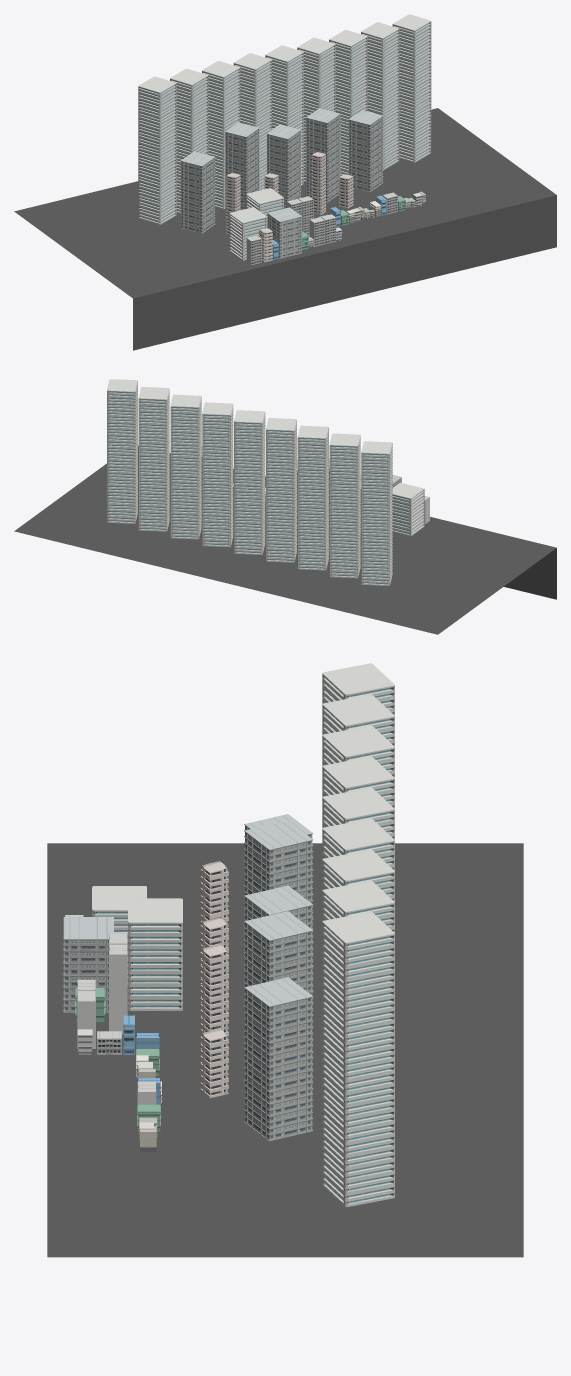
The model's file is testStage.fbx.
The picture shows the model from 3 angles, top to bottom: view 1: azimuth 30°, elevation 25°; view 2: azimuth 150°, elevation 25°; view 3: azimuth 270°, elevation 25°; orthographic projection. The views are drawn at different scales.
Visible parts, largest first — view 1: Plane, Building.032, Building.023, Building.027, Building.026, Building.024, Building.025, Building.014, Building.012, Building.034, Building.030, Building.016 (+6 smaller); view 2: Building.032, Plane, Building.012; view 3: Plane, Building.032, Building.027, Building.016, Building.026, Building.024, Building.014, Building.030, Building.025, Building.022, Building.031, Building.034 (+6 smaller).
Boxes of the visible parts, bbox=[...] form: Plane: bbox=[14, 108, 556, 350]; Building.032: bbox=[138, 14, 431, 224]; Building.023: bbox=[180, 151, 215, 233]; Building.027: bbox=[348, 110, 383, 192]; Building.026: bbox=[306, 108, 340, 202]; Building.024: bbox=[225, 122, 259, 217]; Building.025: bbox=[266, 124, 301, 208]; Building.014: bbox=[267, 207, 302, 258]; Building.012: bbox=[229, 207, 267, 260]; Building.034: bbox=[369, 191, 425, 216]; Building.030: bbox=[311, 152, 325, 215]; Building.016: bbox=[246, 188, 283, 227]; Building.032: bbox=[107, 379, 392, 585]; Plane: bbox=[14, 445, 556, 634]; Building.012: bbox=[392, 482, 424, 536]; Plane: bbox=[47, 843, 523, 1257]; Building.032: bbox=[322, 663, 394, 1207]; Building.027: bbox=[244, 977, 313, 1141]; Building.016: bbox=[128, 898, 182, 1010]; Building.026: bbox=[244, 911, 313, 1089]; Building.024: bbox=[244, 820, 313, 1011]; Building.014: bbox=[63, 917, 113, 1012]; Building.030: bbox=[200, 944, 228, 1065]; Building.025: bbox=[244, 885, 313, 1038]; Building.022: bbox=[109, 933, 127, 1034]; Building.031: bbox=[200, 1029, 228, 1097]; Building.034: bbox=[137, 1078, 161, 1151].
Bounding box in the file's own units: 55599 × 23090 × 27034.
